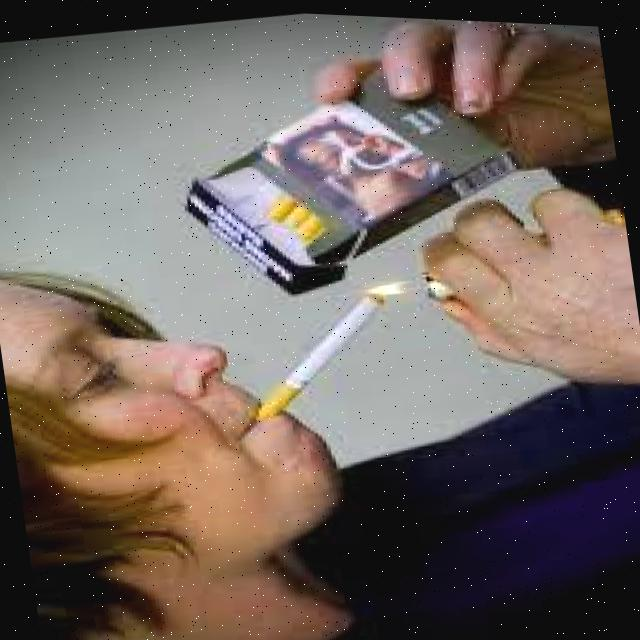cigarette: (252, 289, 388, 422)
